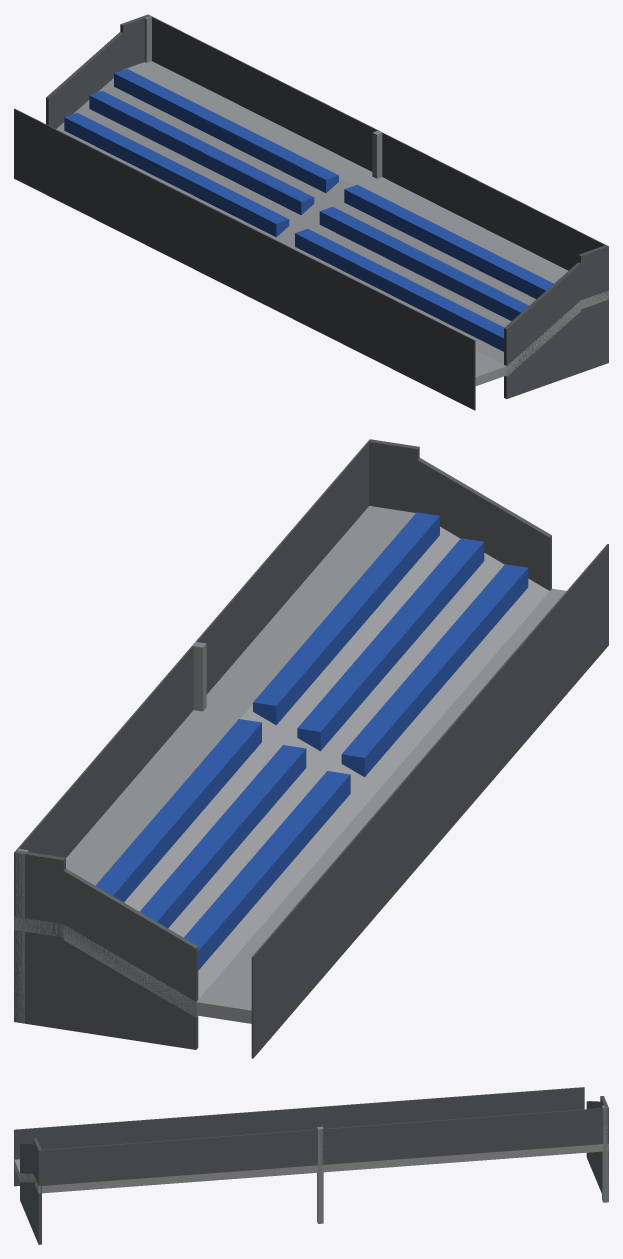
The model's file is mza_stand_trib_p05.glb.
3 renders of one model, top to bottom at view 1: azimuth 30°, elevation 25°; view 2: azimuth 150°, elevation 25°; view 3: azimuth 270°, elevation 25°, orthographic. The views are drawn at different scales.
Visible parts, largest first — view 1: monza-trib-p05; view 2: monza-trib-p05; view 3: monza-trib-p05.
Part boxes in pixels (bbox=[...]): monza-trib-p05: bbox=[14, 14, 608, 410]; monza-trib-p05: bbox=[14, 439, 608, 1058]; monza-trib-p05: bbox=[14, 1087, 608, 1244].
Size of the model in its own units: 7.34 by 3.18 by 18.19.
